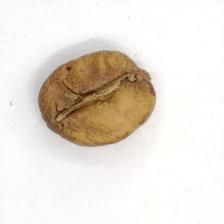NG: (55, 68, 146, 128)
